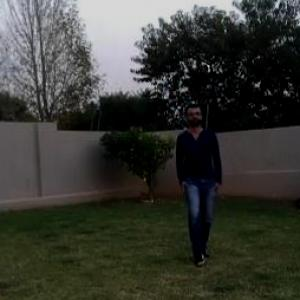follow: (170, 97, 228, 266)
